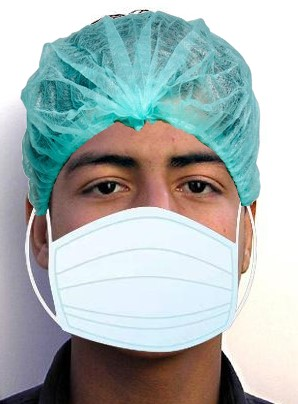with_mask_and_cap: (27, 16, 255, 351)
